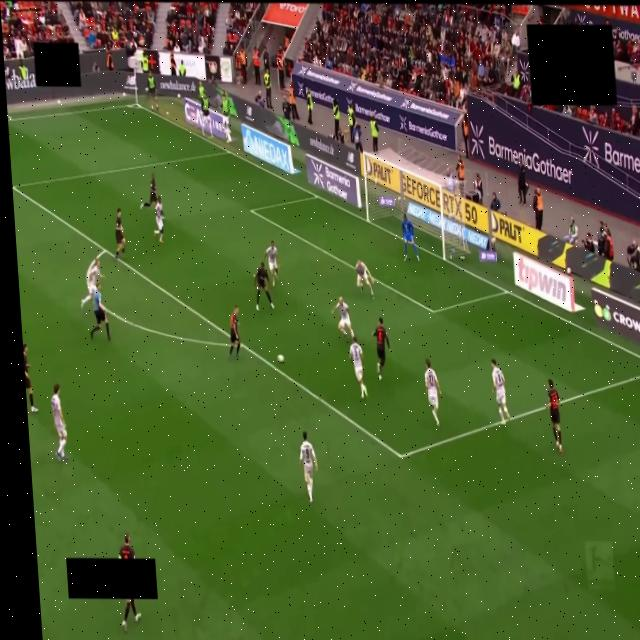ball: (278, 354, 284, 363)
player: (52, 384, 68, 460), (300, 432, 317, 503), (492, 359, 510, 425), (81, 258, 103, 307), (373, 318, 390, 380), (350, 337, 367, 399), (548, 380, 562, 453), (425, 359, 440, 426), (23, 344, 37, 413), (254, 263, 273, 311), (332, 298, 354, 337), (402, 213, 419, 261), (356, 260, 374, 298), (264, 241, 278, 286), (122, 600, 141, 632), (229, 306, 240, 359), (141, 174, 157, 208), (115, 209, 125, 260), (154, 196, 164, 243)
referee: (90, 283, 110, 340)
